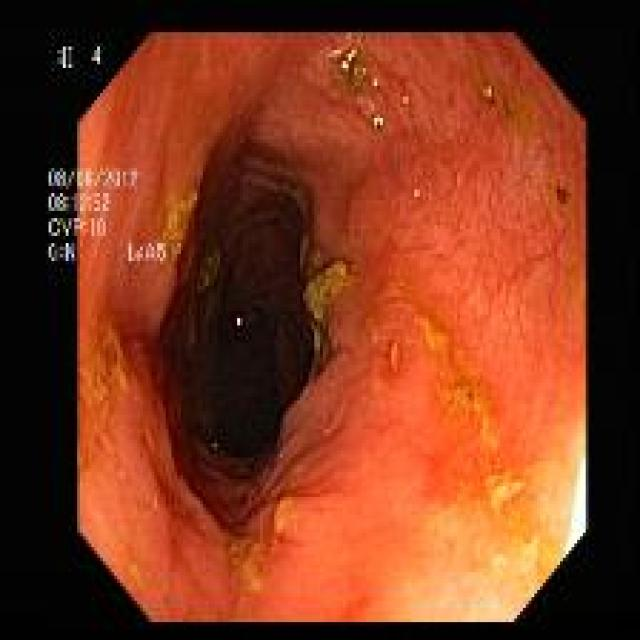ulcerative-colitis: (79, 33, 585, 621)
